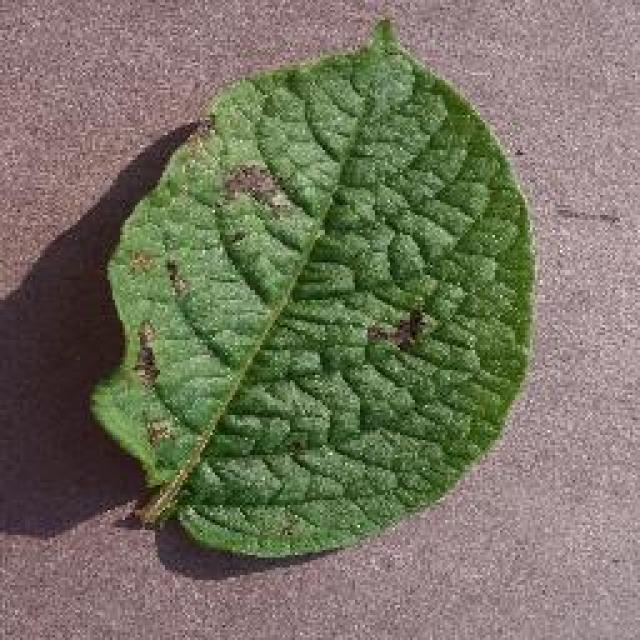late_blight: (85, 15, 540, 563)
